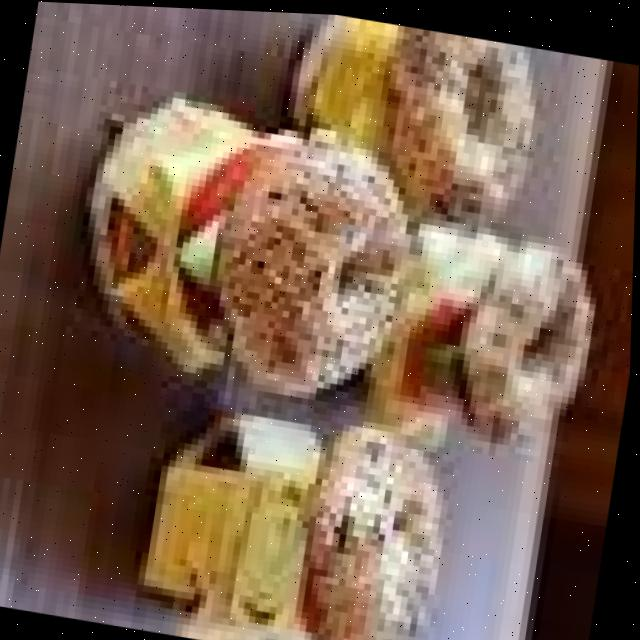Bagel: (214, 135, 405, 390), (307, 427, 445, 640)
